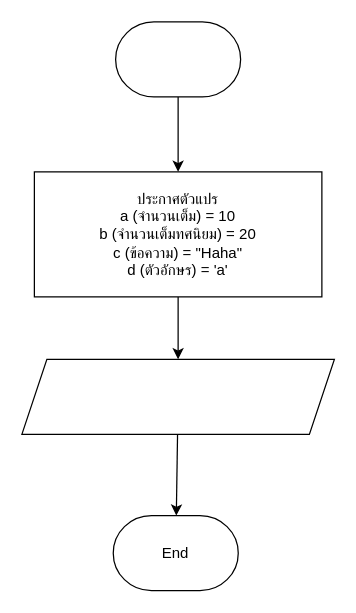
This 356x613 diagram has some shape labels left out. The shapes that lost their labels are listed below. From the top down, each one's centre as x and y in pixels, then its label:
At (177,59): "Start".
At (177,396): "แสดงค่า a, b, c, d".
